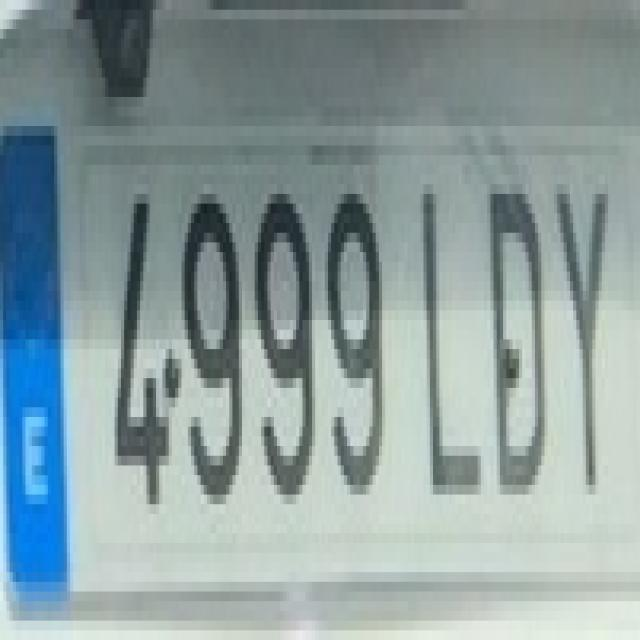4: (96, 165, 176, 504)
9: (312, 155, 395, 485), (166, 165, 246, 504), (242, 165, 315, 494)
D: (474, 165, 554, 494)
L: (404, 155, 488, 495)
Y: (541, 155, 621, 485)
